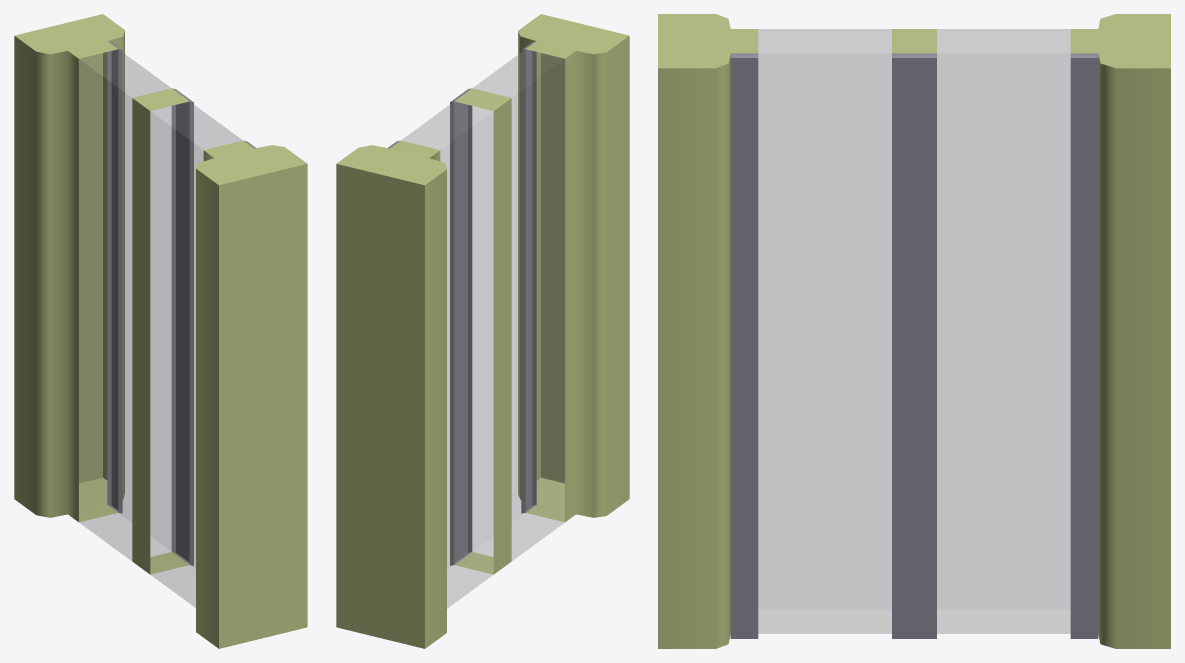
Rendered from door.fbx.
3 views of the same model, side by side, from view 1: azimuth 30°, elevation 25°; view 2: azimuth 150°, elevation 25°; view 3: azimuth 270°, elevation 25° (orthographic). The views are drawn at different scales.
Parts seen in each view (by area): view 1: door_mod; view 2: door_mod; view 3: door_mod.
Boxes of the visible parts, bbox=[...] form: door_mod: bbox=[14, 14, 307, 648]; door_mod: bbox=[336, 14, 629, 648]; door_mod: bbox=[658, 14, 1170, 648].
Bounding box in the file's own units: 1 × 5.02 × 4.
